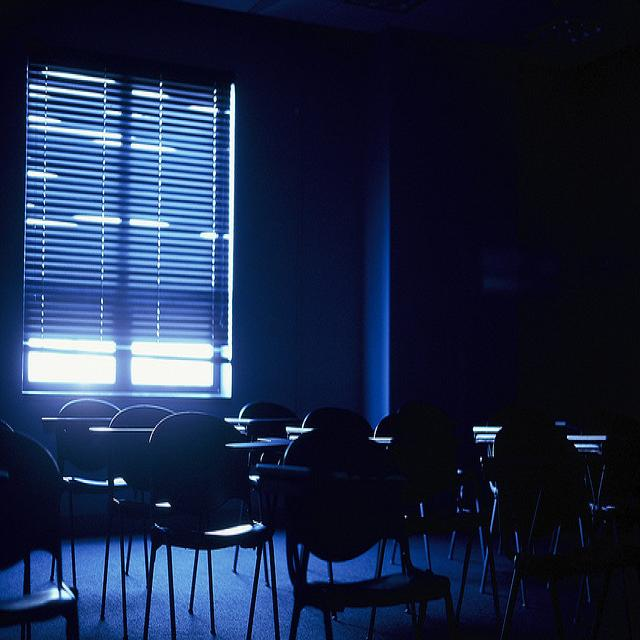chair: (251, 457, 461, 637), (147, 410, 295, 634), (489, 408, 595, 630), (381, 369, 471, 543), (0, 433, 70, 638), (41, 368, 115, 523), (315, 371, 389, 524), (92, 389, 155, 558), (248, 369, 321, 507)
